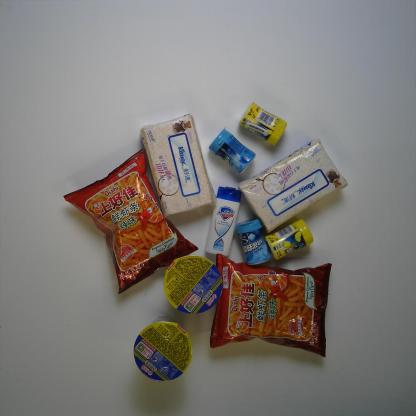Gum: (236, 101, 286, 147), (209, 128, 256, 174), (265, 219, 316, 261), (235, 213, 270, 267)
Instant Noodles: (131, 314, 196, 383), (163, 252, 222, 314)
Personal Hygiene: (206, 183, 244, 259)
Puffed Food: (64, 149, 198, 296), (209, 252, 332, 359)
Tissue: (236, 136, 349, 235), (139, 113, 217, 216)
